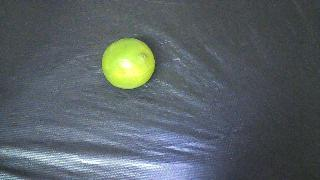LOCAL: (101, 38, 155, 89)
